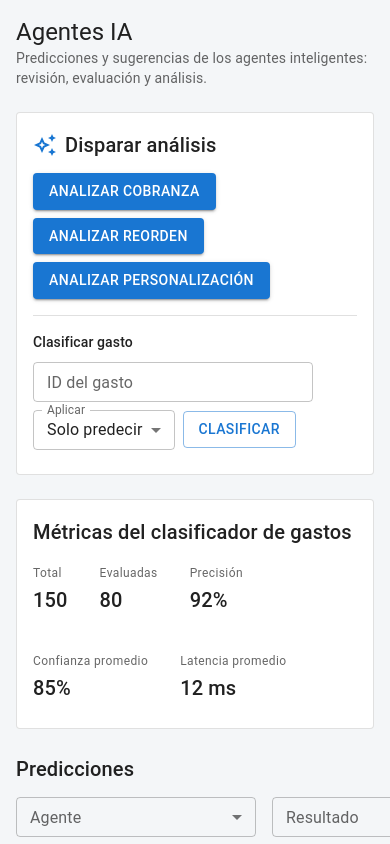
it: AgentesPage › muestra un error cuando el análisis de reorden falla
Click the button "Analizar reorden": {"x": 118, "y": 236} [33, 218, 204, 254]
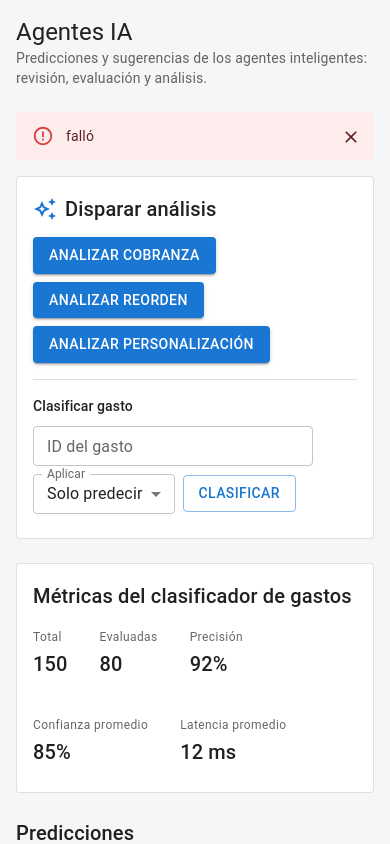
Check: the text "falló" is shown, box [66, 128, 94, 144]
